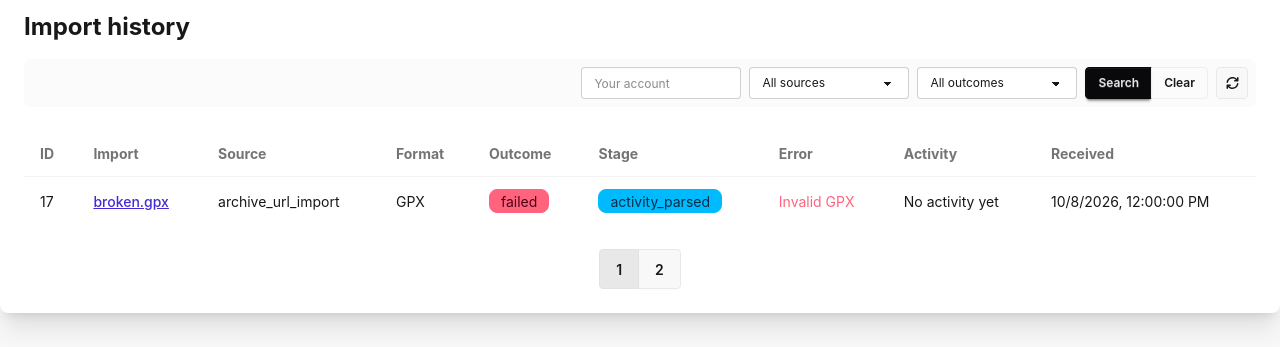
Test: Import history › selects another owner and blocks invalid owner IDs
Type "7" into the number field named "User ID" at (661, 83), box top-left (581, 67), bottom-right (741, 99)
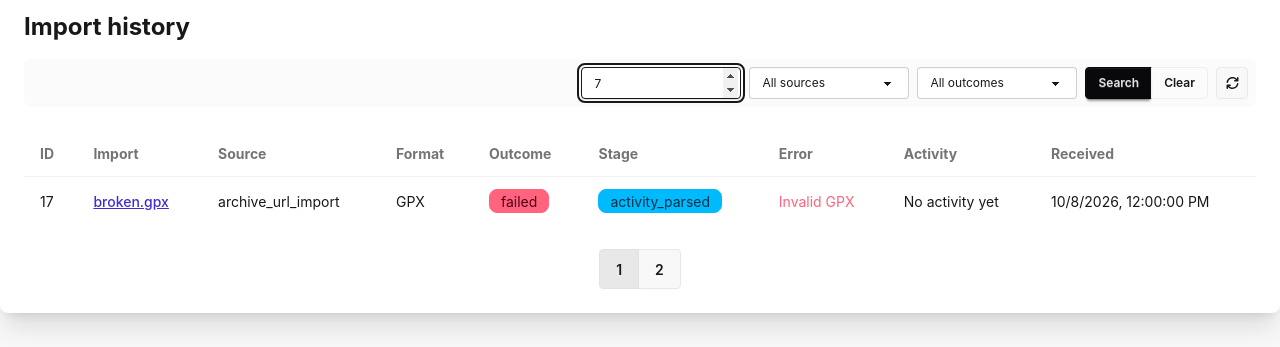
Replace the text in the number field named "User ID" with "0" at (661, 83), box top-left (581, 67), bottom-right (741, 99)
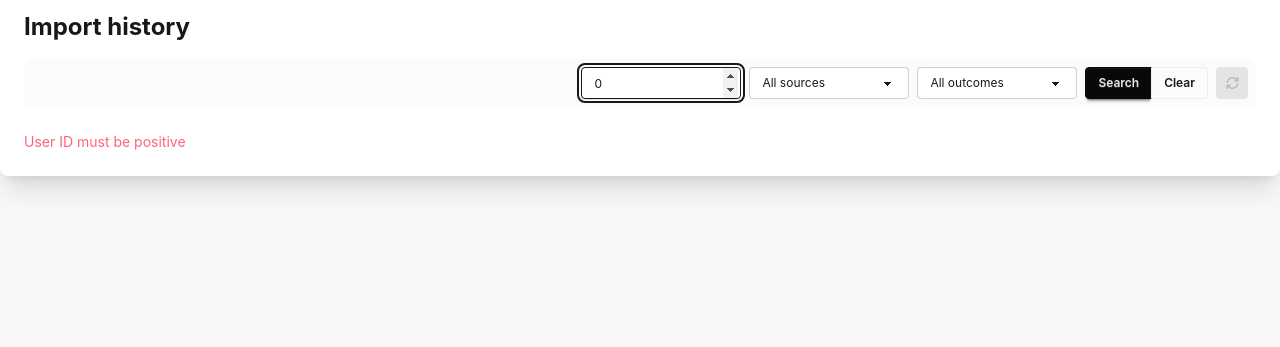
Now the text "User ID must be positive" is shown, box top-left (24, 133), bottom-right (186, 150)
